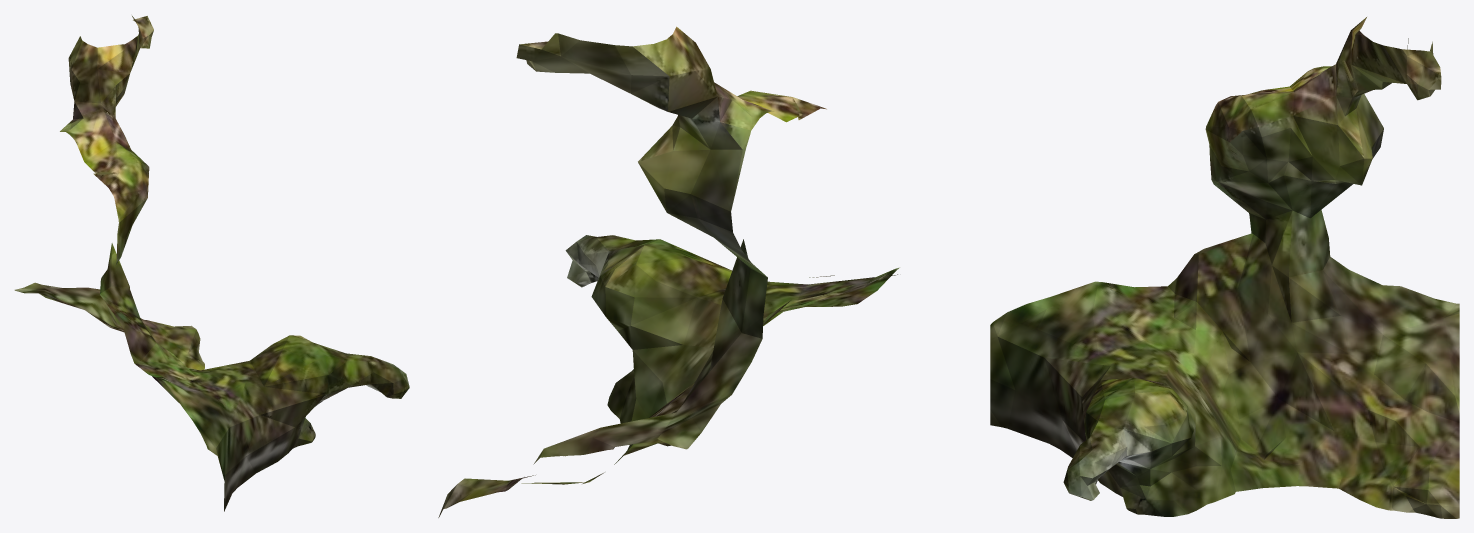
3 views of the same model, side by side, from view 1: azimuth 30°, elevation 25°; view 2: azimuth 150°, elevation 25°; view 3: azimuth 270°, elevation 25° (orthographic). The views are drawn at different scales.
Bounding box in the file's own units: 0.5916 × 0.8374 × 0.8374.
3 materials, 3 textured.
